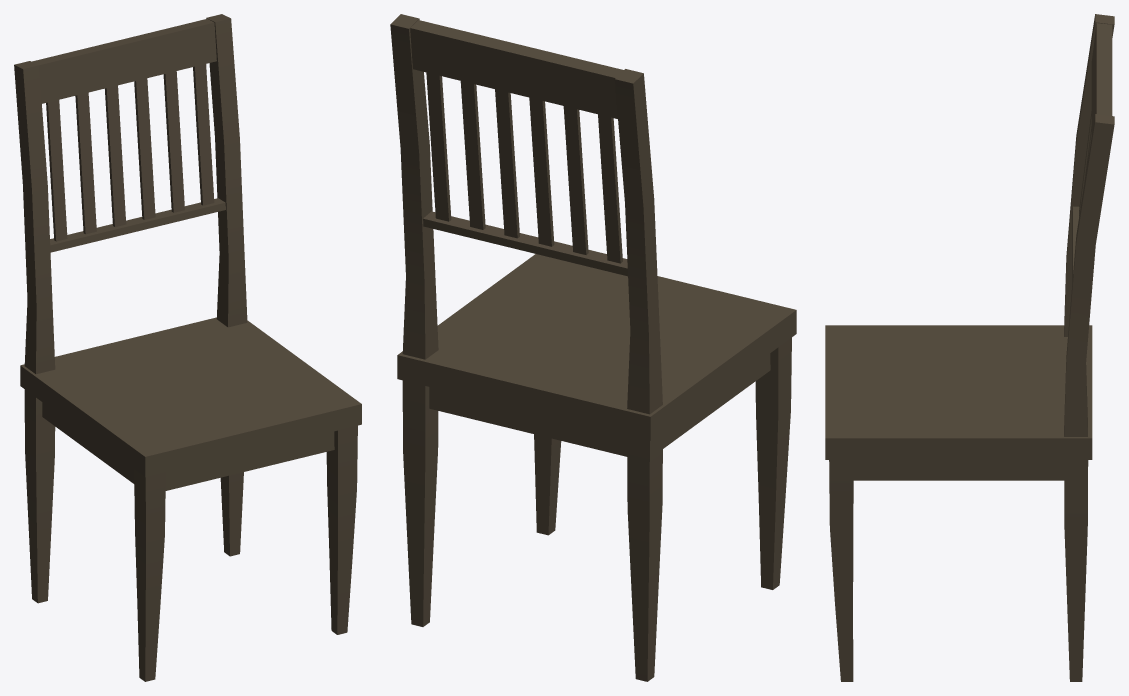
File: Chair_4.glb
3 renders of one model, left to right at view 1: azimuth 30°, elevation 25°; view 2: azimuth 150°, elevation 25°; view 3: azimuth 270°, elevation 25°, orthographic. The views are drawn at different scales.
Parts seen in each view (by area): view 1: Chair_4; view 2: Chair_4; view 3: Chair_4.
Part boxes in pixels (bbox=[...]): Chair_4: bbox=[14, 14, 361, 681]; Chair_4: bbox=[390, 14, 796, 681]; Chair_4: bbox=[825, 14, 1114, 681].
Bounding box in the file's own units: 0.3725 × 0.8644 × 0.4036.
1 material, 1 textured.
